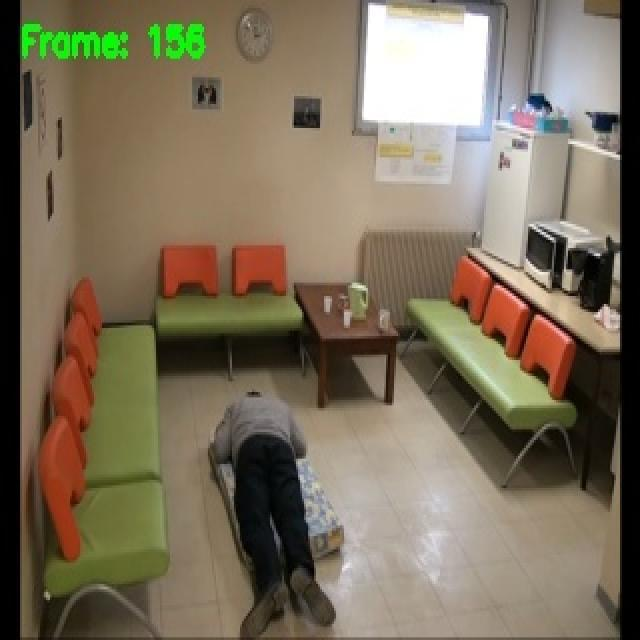fall: (212, 390, 326, 629)
